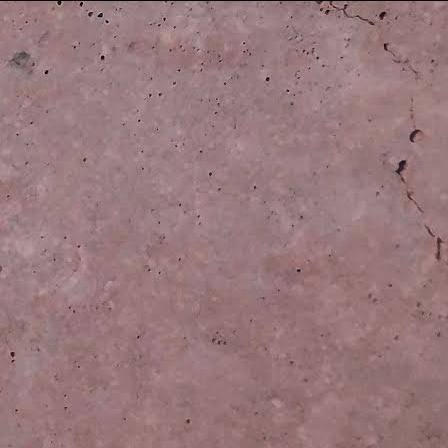crack: (372, 33, 448, 272), (323, 0, 381, 29)
